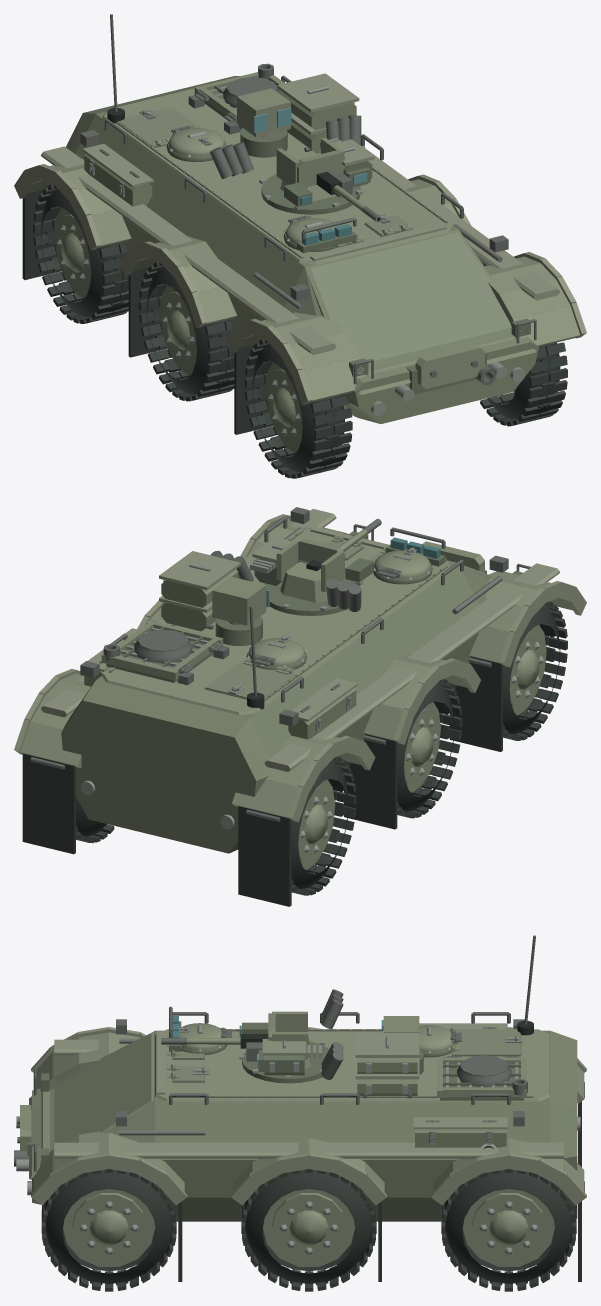
The model's file is spheres-ground-recon.glb.
The picture shows the model from 3 angles, top to bottom: view 1: azimuth 30°, elevation 25°; view 2: azimuth 150°, elevation 25°; view 3: azimuth 270°, elevation 25°; orthographic projection. The views are drawn at different scales.
Parts seen in each view (by area): view 1: Spheres reconnaissance vehicle; view 2: Spheres reconnaissance vehicle; view 3: Spheres reconnaissance vehicle.
Boxes of the visible parts, <box> form: Spheres reconnaissance vehicle: <box>14,14,586,478</box>; Spheres reconnaissance vehicle: <box>14,507,586,906</box>; Spheres reconnaissance vehicle: <box>14,935,586,1291</box>.
Bounding box in the file's own units: 2.72 × 2.61 × 5.12.
